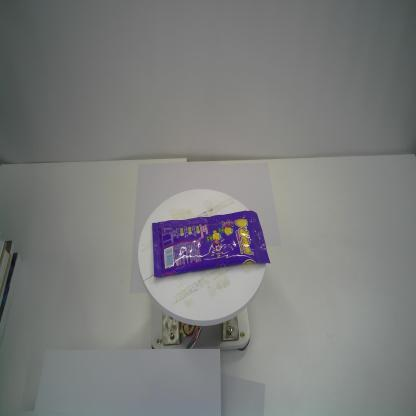Candy: (151, 209, 271, 280)
